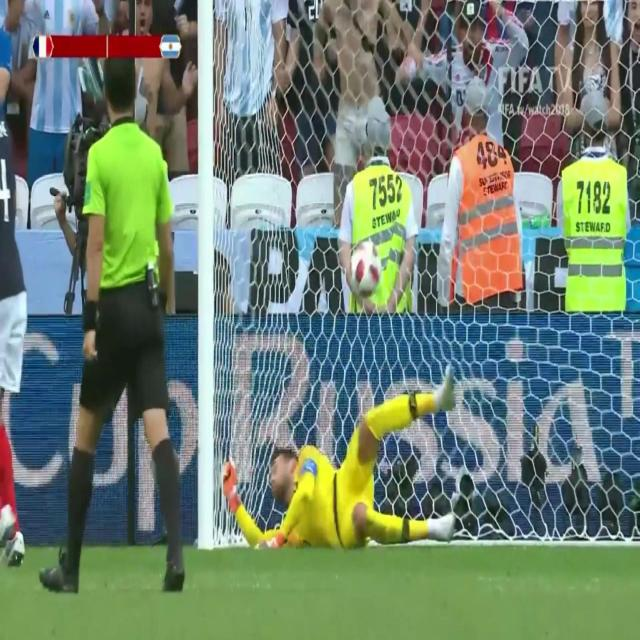ball: (344, 235, 383, 298)
player: (41, 55, 196, 603), (217, 378, 466, 564)
